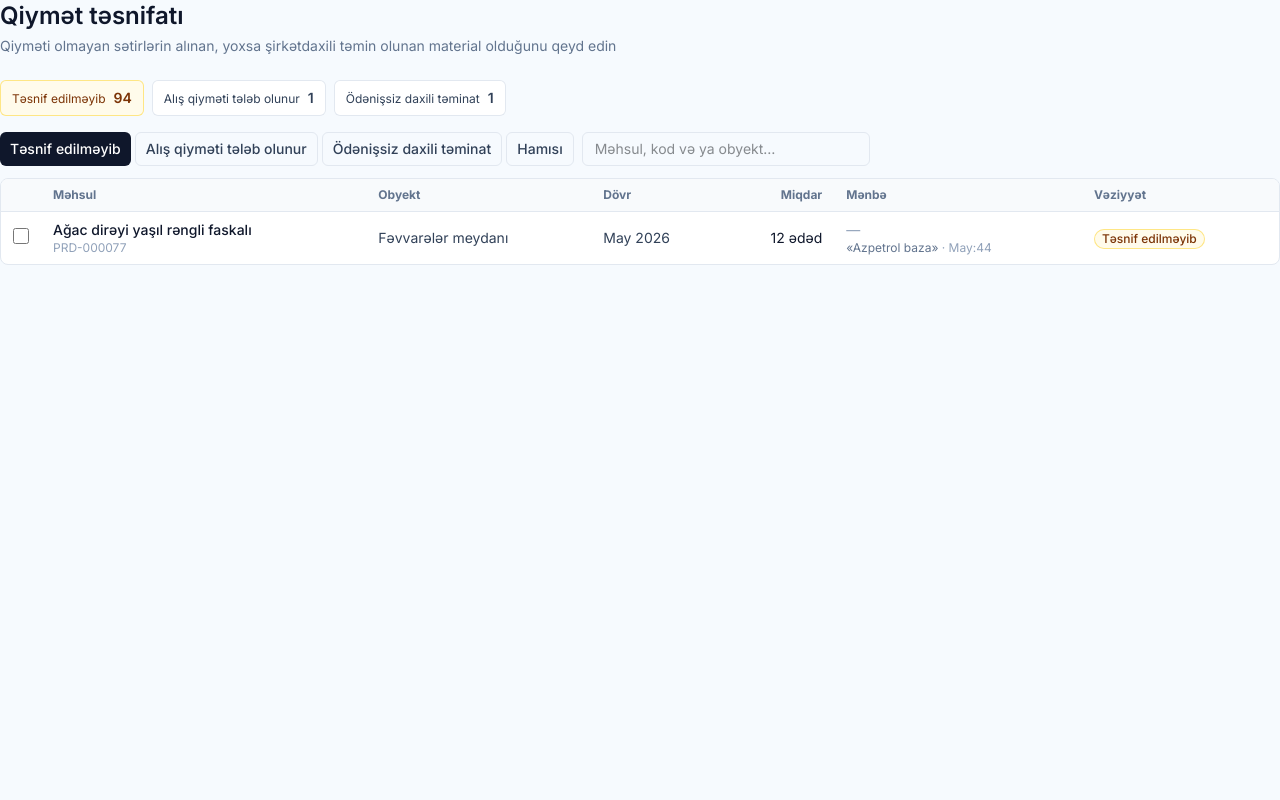
Test: deciding › reports what actually changed
Click the checkbox named "Ağac dirəyi".
click(21, 236)  # box [13,228,29,244]
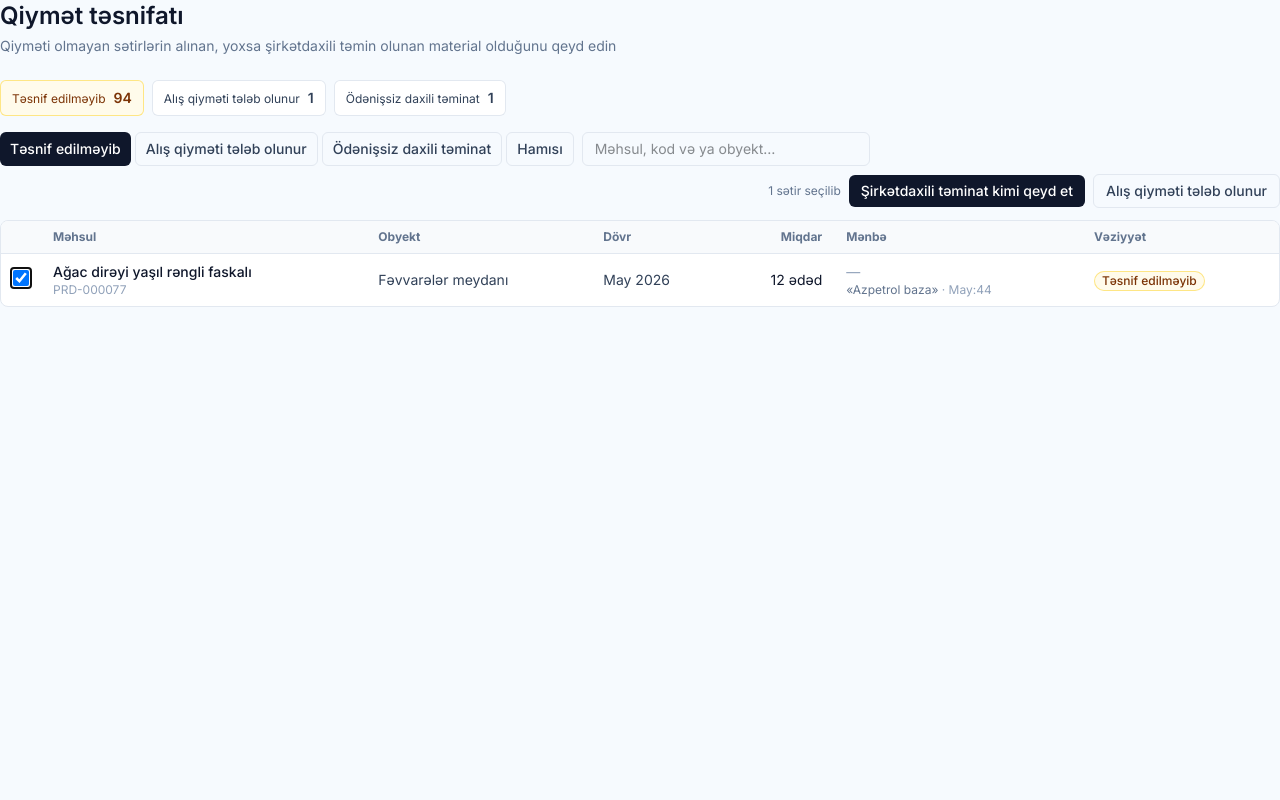
Click the button "Şirkətdaxili təminat kimi qeyd et".
click(967, 191)  # box [849,175,1085,207]
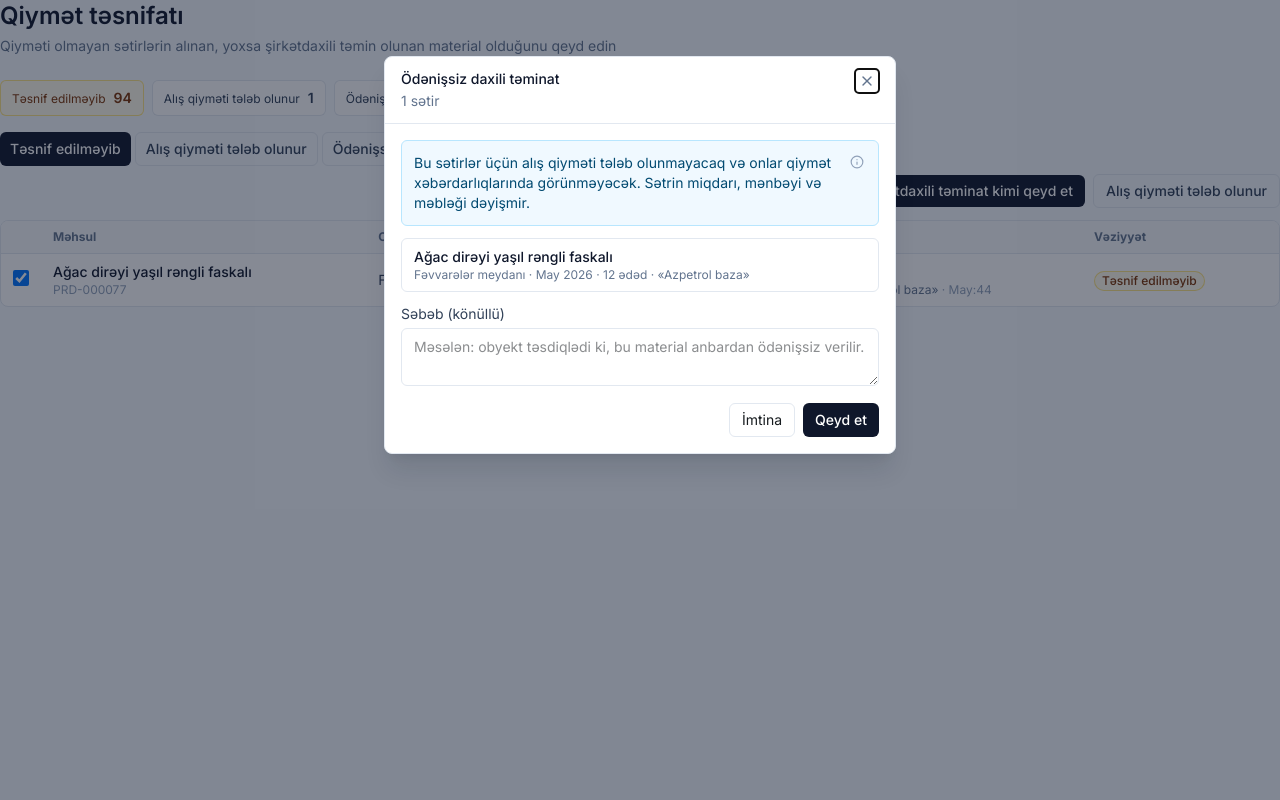
Click the button "Qeyd et".
click(841, 420)  # box [803,403,879,437]
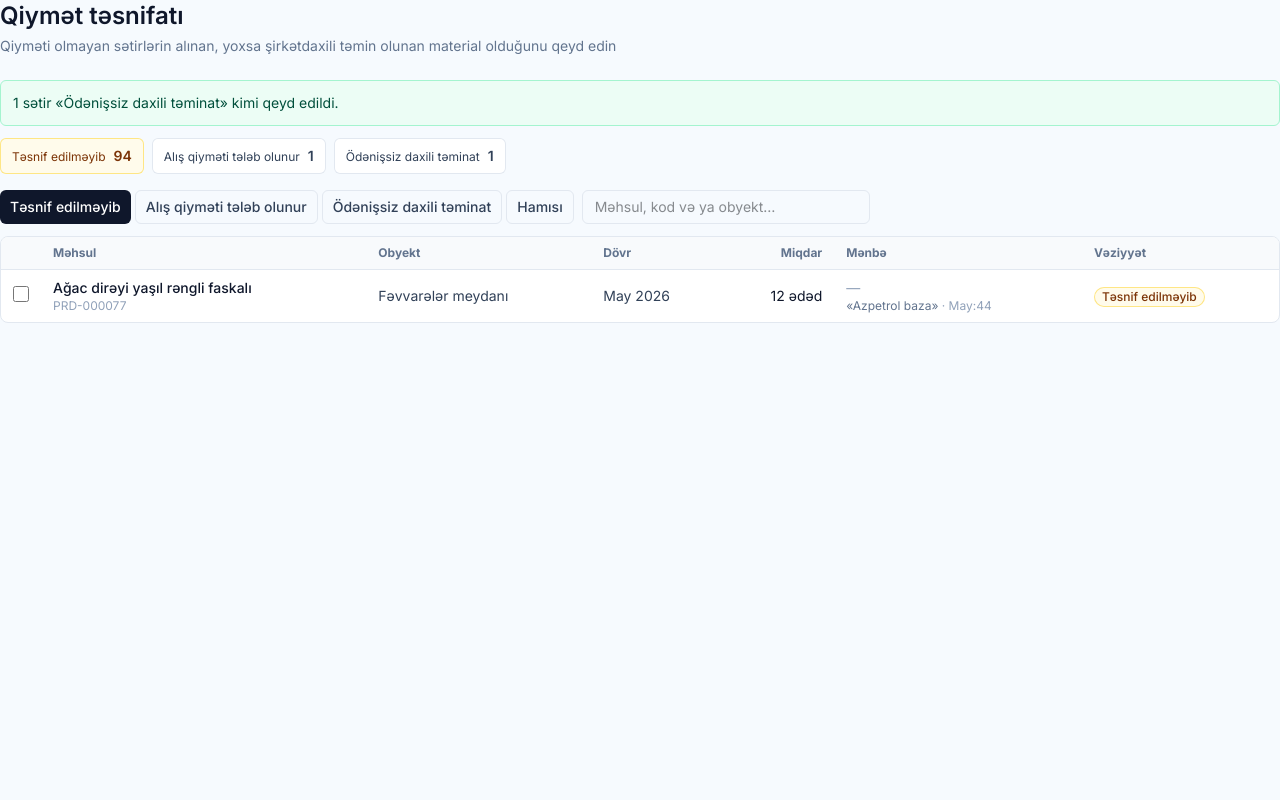
Now the text "1 sətir «Ödənişsiz daxili təminat» kimi qeyd edildi." is shown, box [0,80,1279,126]
